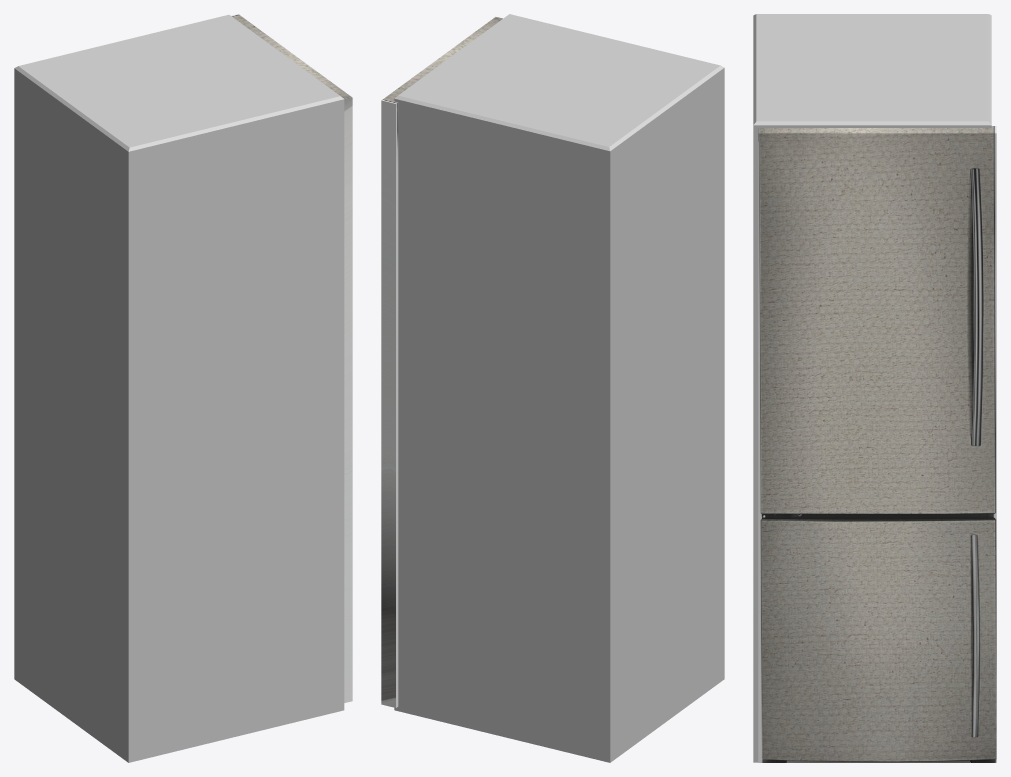
The model's file is fridge.glb.
3 views of the same model, side by side, from view 1: azimuth 30°, elevation 25°; view 2: azimuth 150°, elevation 25°; view 3: azimuth 270°, elevation 25° (orthographic). The views are drawn at different scales.
Visible parts, largest first — view 1: Fridge, Door; view 2: Fridge, Door; view 3: Door, Fridge.
Part boxes in pixels (left/top/right/bottom): Fridge: left=14, top=14, right=344, bottom=762; Door: left=231, top=14, right=352, bottom=702; Fridge: left=394, top=14, right=724, bottom=762; Door: left=381, top=17, right=502, bottom=707; Door: left=758, top=126, right=996, bottom=762; Fridge: left=753, top=14, right=991, bottom=762.
Bounding box in the file's own units: 0.6291 × 1.63 × 0.561.
Materials: 2 (1 with a texture image).
